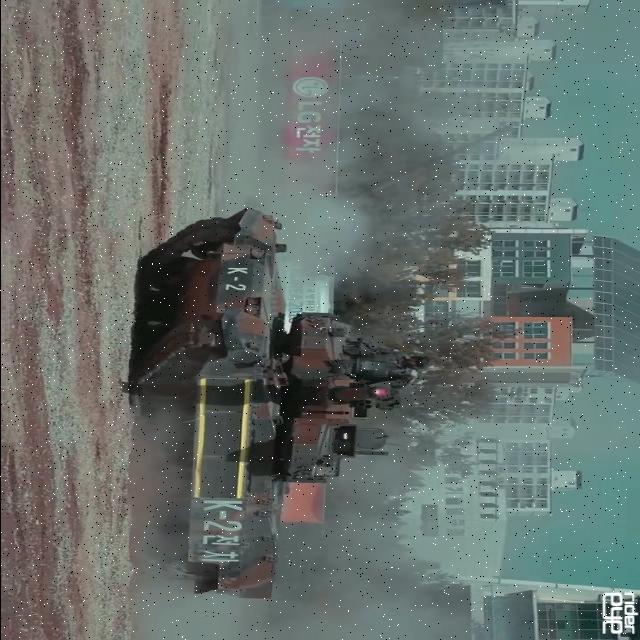korea tank: (122, 203, 434, 603)
